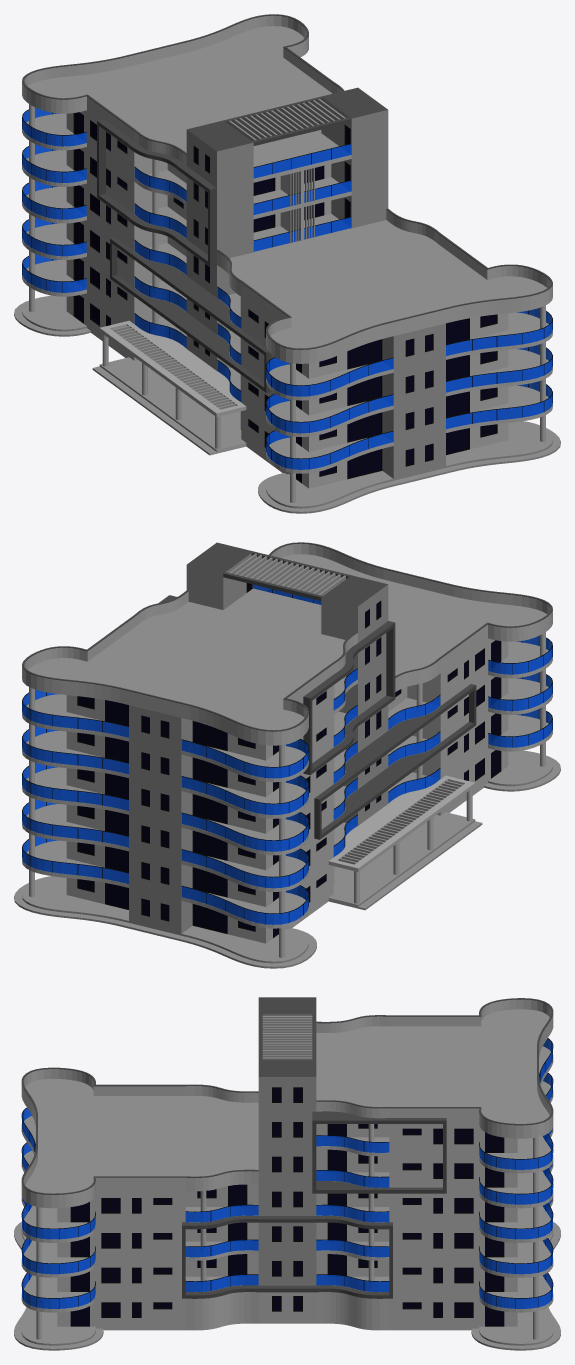
Rendered from Apartment Building_6_obj.obj.
The picture shows the model from 3 angles, top to bottom: view 1: azimuth 30°, elevation 25°; view 2: azimuth 150°, elevation 25°; view 3: azimuth 270°, elevation 25°; orthographic projection. The views are drawn at different scales.
Parts seen in each view (by area): view 1: FLOOR, BALCONY, WALL, ROOF_01, PERGOLA, GROUND_FLOOR_02, DESIGN, DOOR, GROUND_FLOOR_01, WINDOW, GROUND_FLOOR_03; view 2: BALCONY, FLOOR, WALL, ROOF_01, PERGOLA, GROUND_FLOOR_02, DESIGN, DOOR, GROUND_FLOOR_01, WINDOW, GROUND_FLOOR_03; view 3: FLOOR, WALL, BALCONY, ROOF_01, GROUND_FLOOR_01, WINDOW, DESIGN, DOOR, GROUND_FLOOR_02, GROUND_FLOOR_03.
Part boxes in pixels (x1,y1,x2,y2): FLOOR: (22,26,552,363); BALCONY: (22,104,552,473); WALL: (66,43,508,451); ROOF_01: (22,14,552,360); PERGOLA: (92,320,246,455); GROUND_FLOOR_02: (14,287,560,513); DESIGN: (97,119,271,392); DOOR: (73,112,469,446); GROUND_FLOOR_01: (66,290,508,488); WINDOW: (90,120,497,440); GROUND_FLOOR_03: (73,295,497,483); BALCONY: (22,632,552,928); FLOOR: (22,554,552,745); WALL: (66,582,508,906); ROOF_01: (22,542,552,741); PERGOLA: (328,775,482,910); GROUND_FLOOR_02: (14,742,560,968); DESIGN: (158,595,476,839); DOOR: (105,640,501,901); GROUND_FLOOR_01: (66,745,508,943); WINDOW: (77,637,484,895); GROUND_FLOOR_03: (77,750,501,937); FLOOR: (21,1009,553,1208); WALL: (38,1025,536,1291); BALCONY: (21,1038,553,1312); ROOF_01: (21,997,553,1204); GROUND_FLOOR_01: (57,1292,517,1330); WINDOW: (101,1122,473,1283); DESIGN: (182,1111,446,1298); DOOR: (70,1124,504,1291); GROUND_FLOOR_02: (14,1222,560,1350); GROUND_FLOOR_03: (70,1296,504,1326).
Bounding box in the file's own units: 986 × 852 × 1711.
